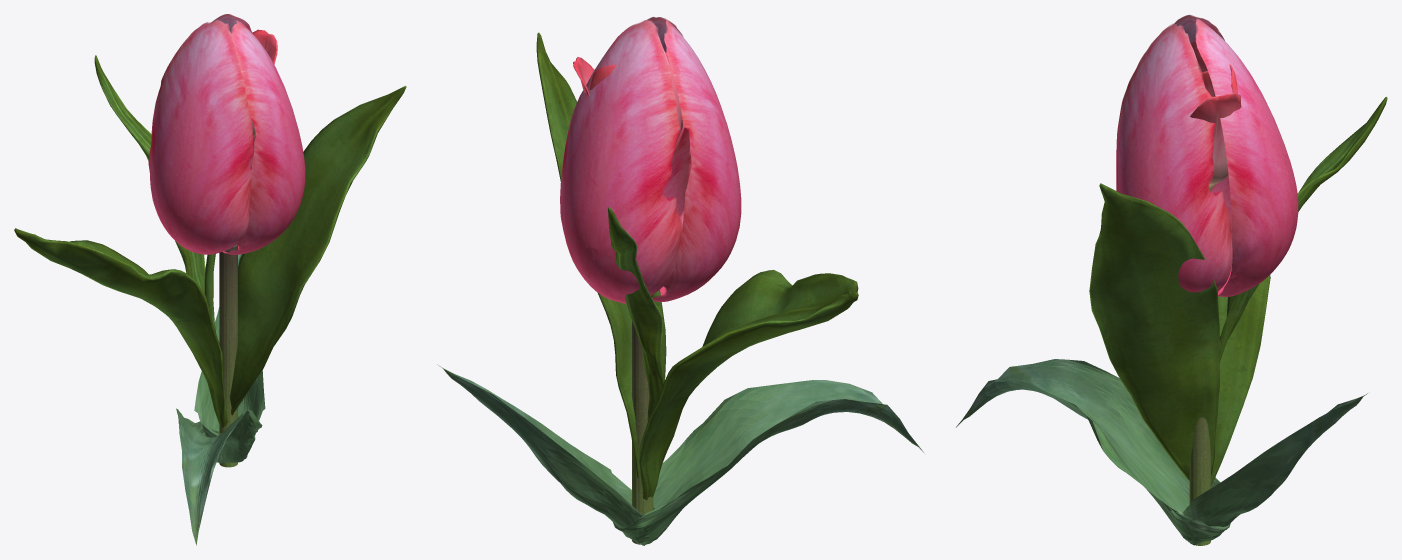
File: tulip.glb
3 views of the same model, side by side, from view 1: azimuth 30°, elevation 25°; view 2: azimuth 150°, elevation 25°; view 3: azimuth 270°, elevation 25° (orthographic). The views are drawn at different scales.
Visible parts, largest first — view 1: tulipb_petal_lod0, tulipa_lod0, tulipb_leaf_lod0; view 2: tulipb_petal_lod0, tulipa_lod0, tulipb_leaf_lod0; view 3: tulipa_lod0, tulipb_petal_lod0, tulipb_leaf_lod0.
Boxes of the visible parts, x1,y1,x2,y2 form: tulipb_petal_lod0: (148,14,305,254); tulipa_lod0: (14,29,406,427); tulipb_leaf_lod0: (176,244,265,545); tulipb_petal_lod0: (560,17,741,303); tulipa_lod0: (536,32,858,500); tulipb_leaf_lod0: (437,321,923,545); tulipa_lod0: (1089,41,1387,487); tulipb_petal_lod0: (1116,15,1298,296); tulipb_leaf_lod0: (956,359,1367,545).
Size of what is drawn, in the model's own units: 0.3401 by 0.4391 by 0.3312.
Materials: 3 (3 with a texture image).
